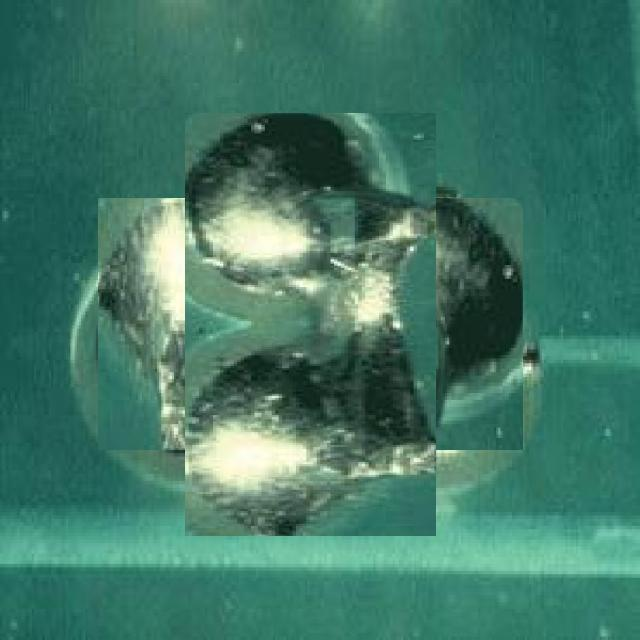Short_circuit: (185, 112, 436, 536)
